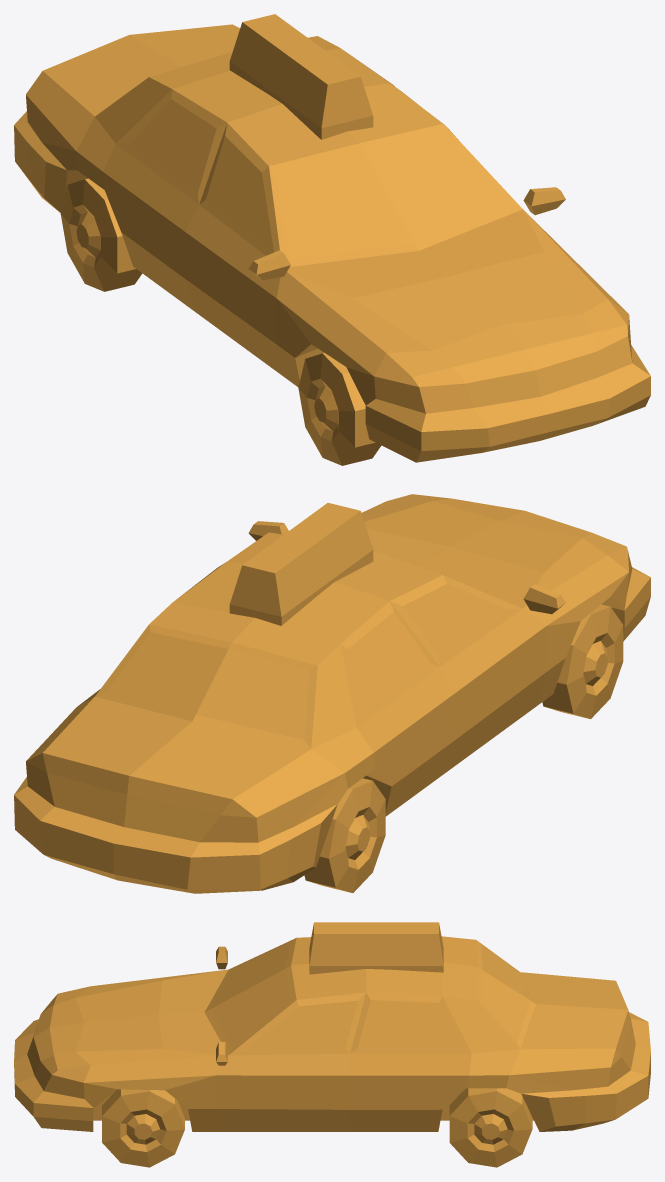
Rendered from car-taxi.fbx.
3 views of the same model, one above another, from view 1: azimuth 30°, elevation 25°; view 2: azimuth 150°, elevation 25°; view 3: azimuth 270°, elevation 25° (orthographic). The views are drawn at different scales.
Parts seen in each view (by area): view 1: car-taxi-base, car-taxi-wheel_FR, car-taxi-wheel_BR; view 2: car-taxi-base, car-taxi-wheel_BR, car-taxi-wheel_FR; view 3: car-taxi-base, car-taxi-wheel_BL, car-taxi-wheel_FL.
Part boxes in pixels (left/top/right/bottom): car-taxi-base: left=14, top=14, right=650, bottom=462; car-taxi-wheel_FR: left=298, top=353, right=381, bottom=465; car-taxi-wheel_BR: left=60, top=178, right=142, bottom=291; car-taxi-base: left=14, top=494, right=650, bottom=893; car-taxi-wheel_BR: left=304, top=778, right=385, bottom=892; car-taxi-wheel_FR: left=542, top=604, right=623, bottom=719; car-taxi-base: left=14, top=922, right=650, bottom=1131; car-taxi-wheel_BL: left=449, top=1088, right=532, bottom=1167; car-taxi-wheel_FL: left=102, top=1089, right=184, bottom=1167.
Size of the model in its own units: 2.19 by 1.77 by 5.35.
